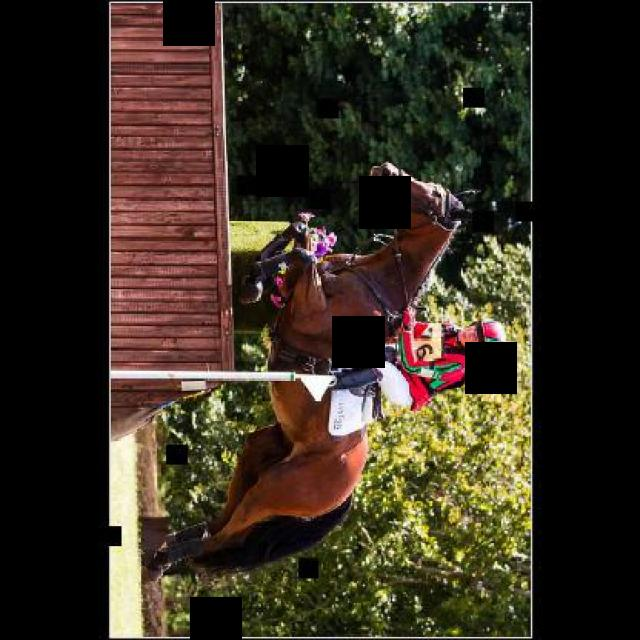unauthorized: (148, 158, 503, 576)
